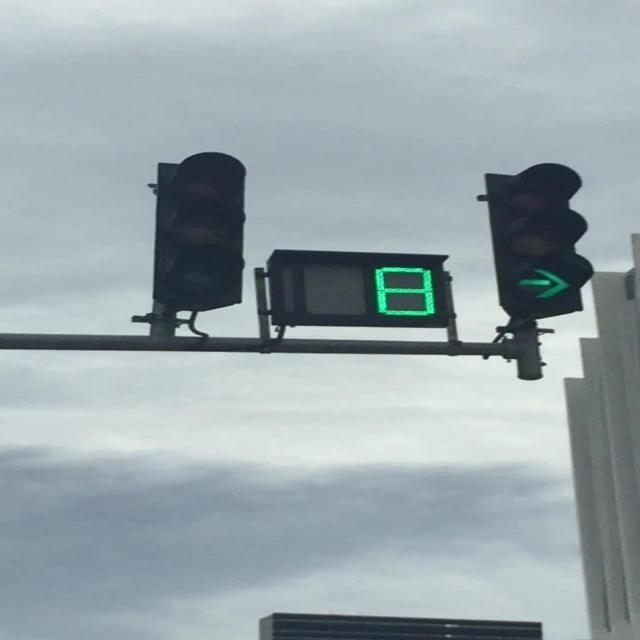green_light: (482, 163, 593, 319)
